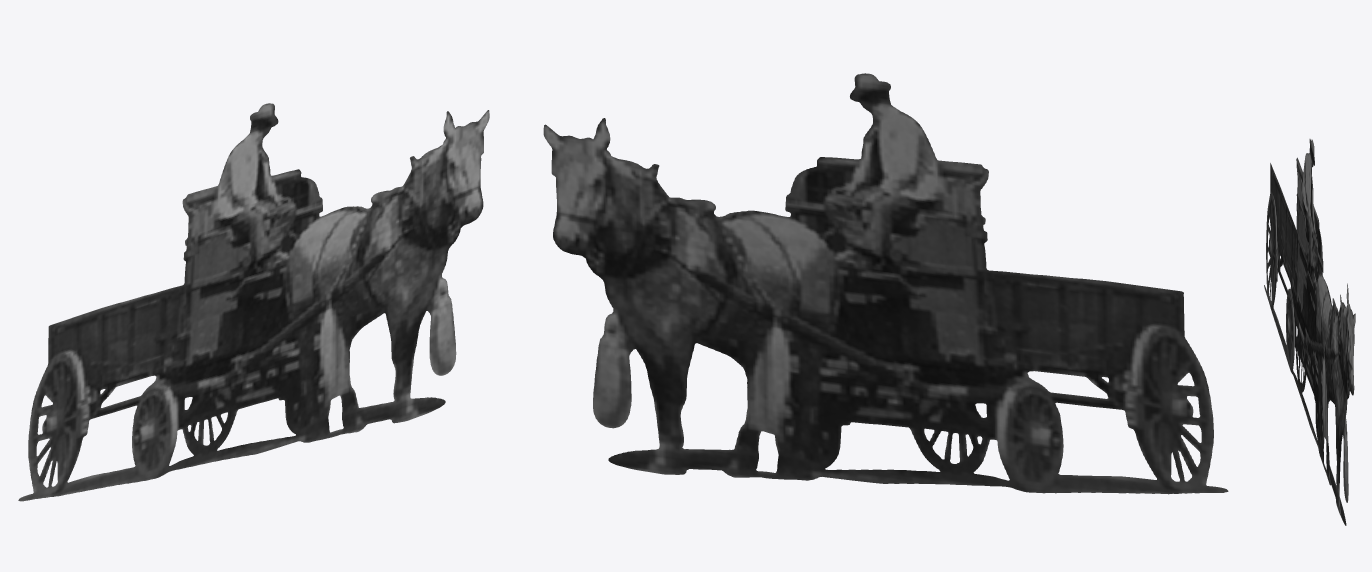
The model's file is carriage_C.FBX.
3 views of the same model, side by side, from view 1: azimuth 30°, elevation 25°; view 2: azimuth 150°, elevation 25°; view 3: azimuth 270°, elevation 25° (orthographic). The views are drawn at different scales.
Parts seen in each view (by area): view 1: carriage_C; view 2: carriage_C; view 3: carriage_C.
Boxes of the visible parts, x1,y1,x2,y2 form: carriage_C: [18, 103, 489, 501]; carriage_C: [543, 73, 1228, 494]; carriage_C: [1264, 139, 1355, 525].
Bounding box in the file's own units: 523 × 360 × 94.6.
Materials: 1 (1 with a texture image).
